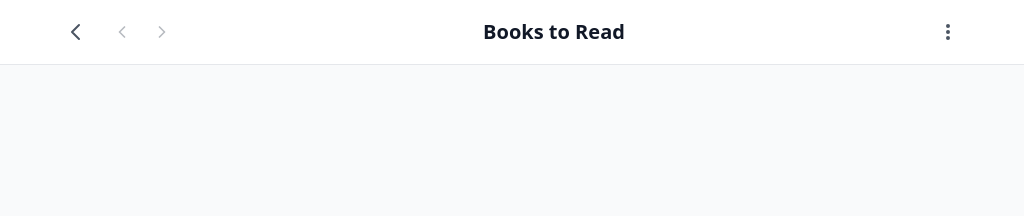
CollectionHeader › should close menu when clicking outside
The image size is (1024, 216).
Note: Open menu
Click the button named "collection menu": [948, 32] box [928, 12, 968, 52]
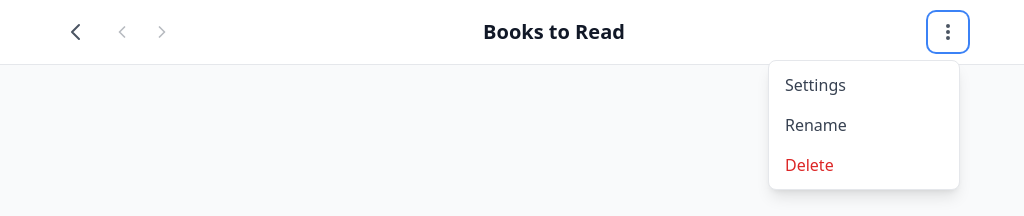
Check: the button "Settings" is shown, box [769, 65, 959, 105]
Note: Click outside (on the header title)
Click the link "Books to Read": [554, 32] box [483, 18, 625, 45]
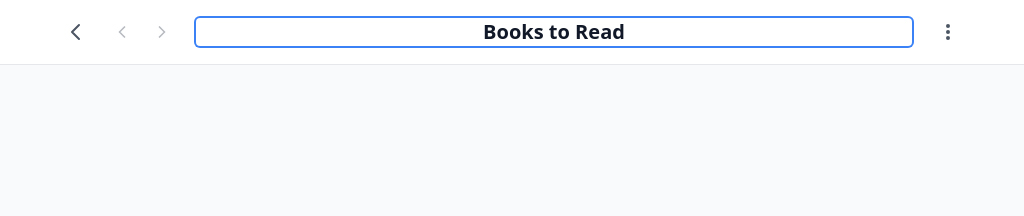
Check: the button "Settings" is gone
